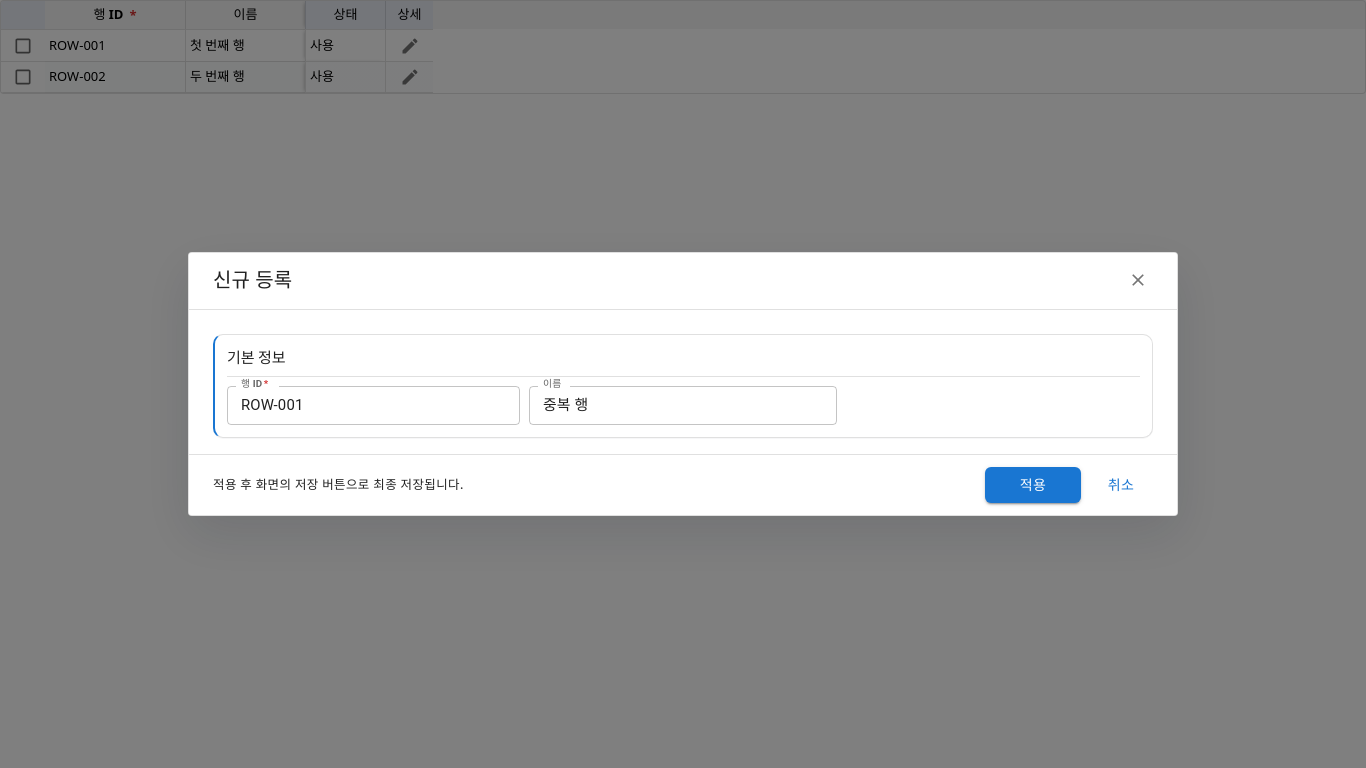
F1-Grid row form integration › keeps a duplicate create draft open with a row key error and allows correction
Click the button "적용" at (1033, 485), box [985,467,1081,503]
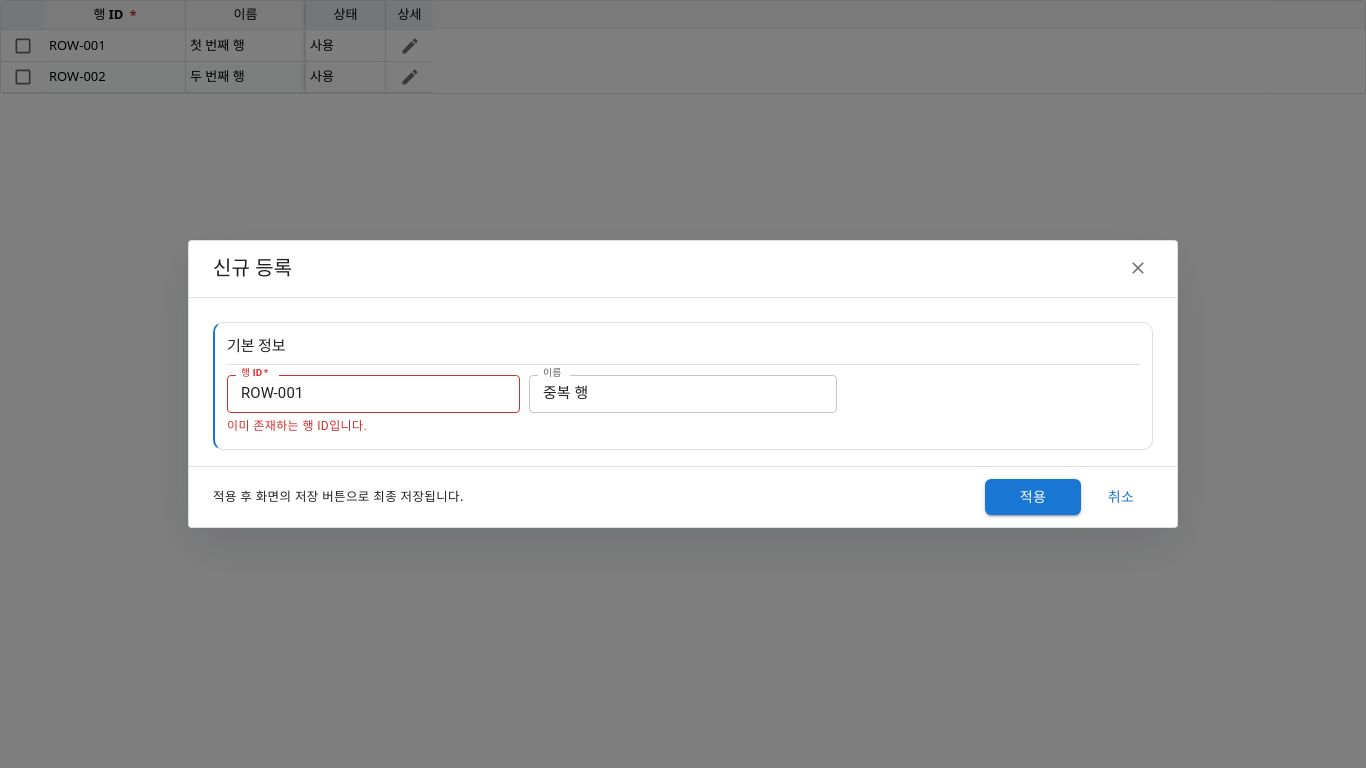
Check: the dialog is shown, box [188,240,1178,528]
Check: the text "이미 존재하는 행 ID입니다." is shown, box [227,419,367,433]
Replace the text in the field labelled "행 ID*" with "ROW-002" at (373, 394), box [227,374,520,413]
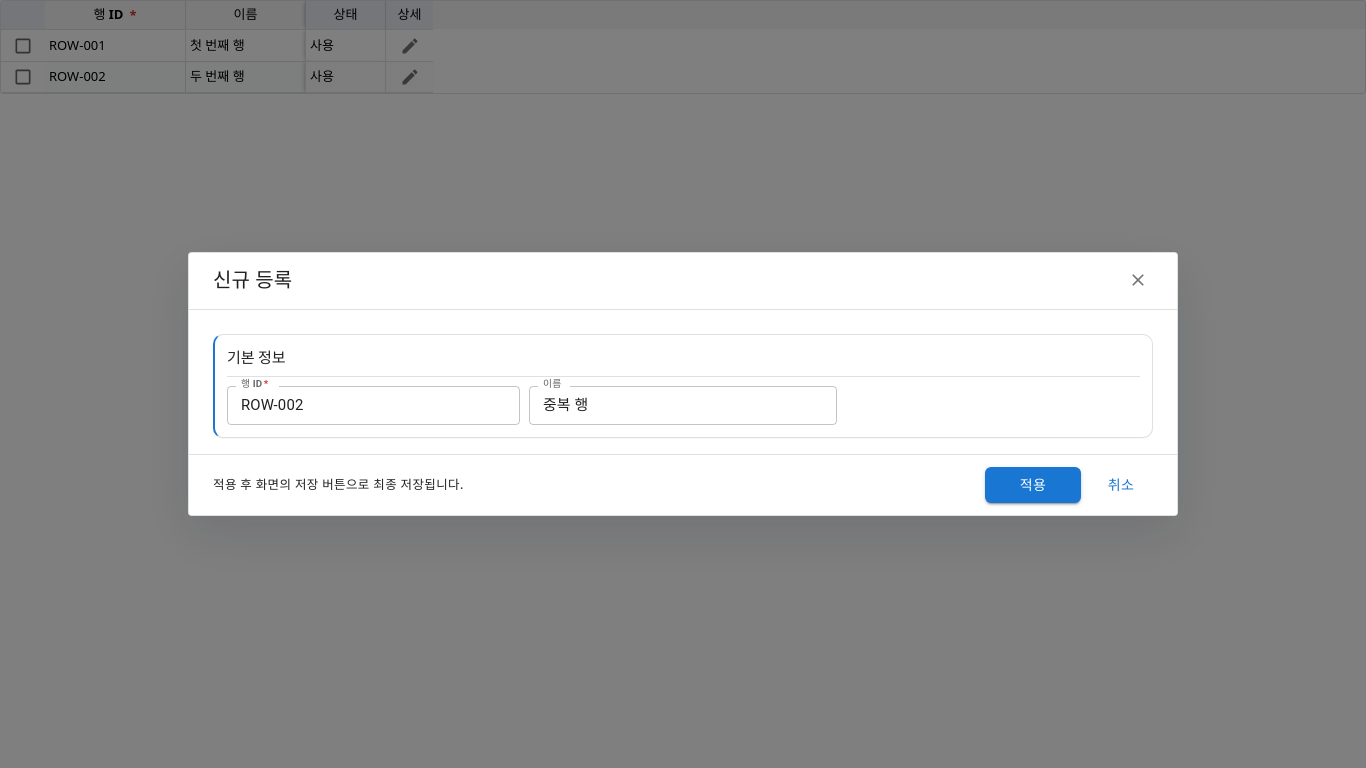
Click the button "적용" at (1033, 485), box [985,467,1081,503]
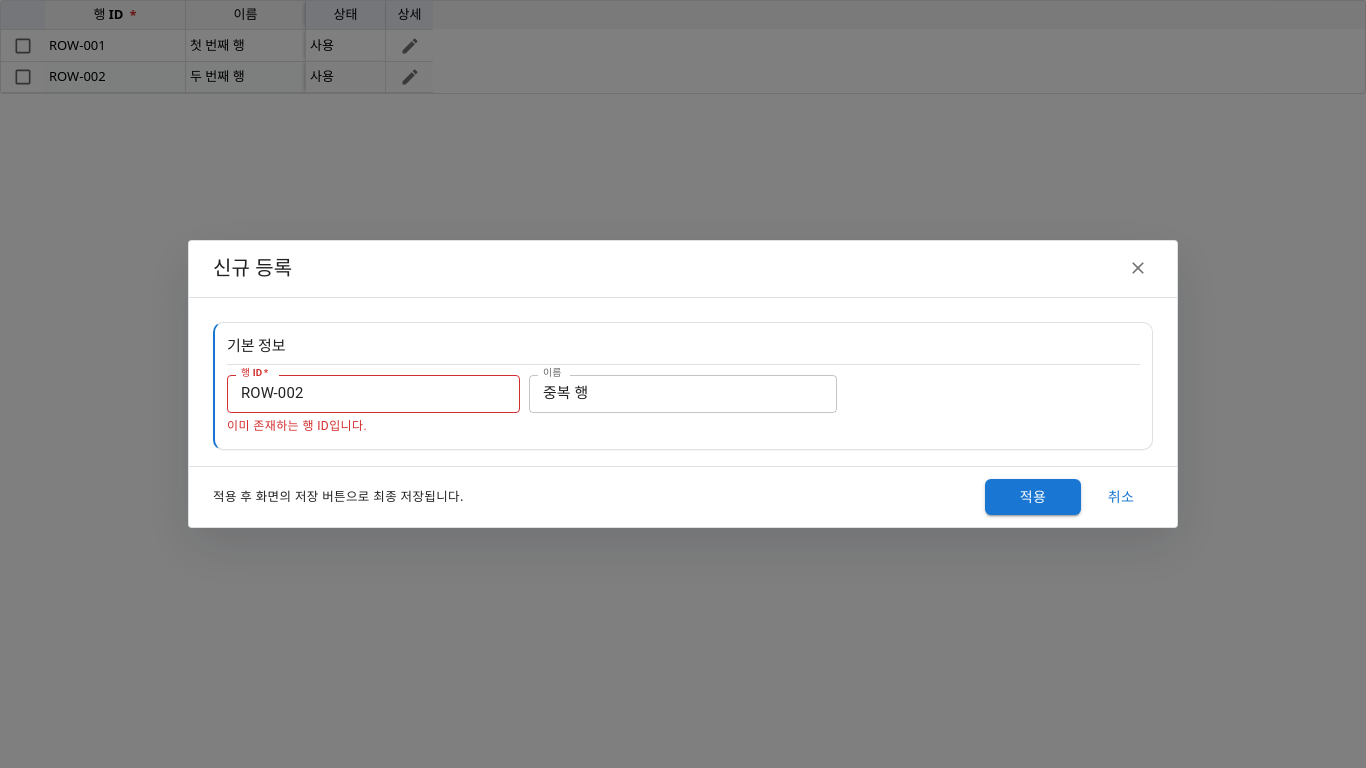
Check: the text "이미 존재하는 행 ID입니다." is shown, box [227,419,367,433]
Replace the text in the field labelled "행 ID*" with "ROW-003" at (373, 394), box [227,374,520,413]
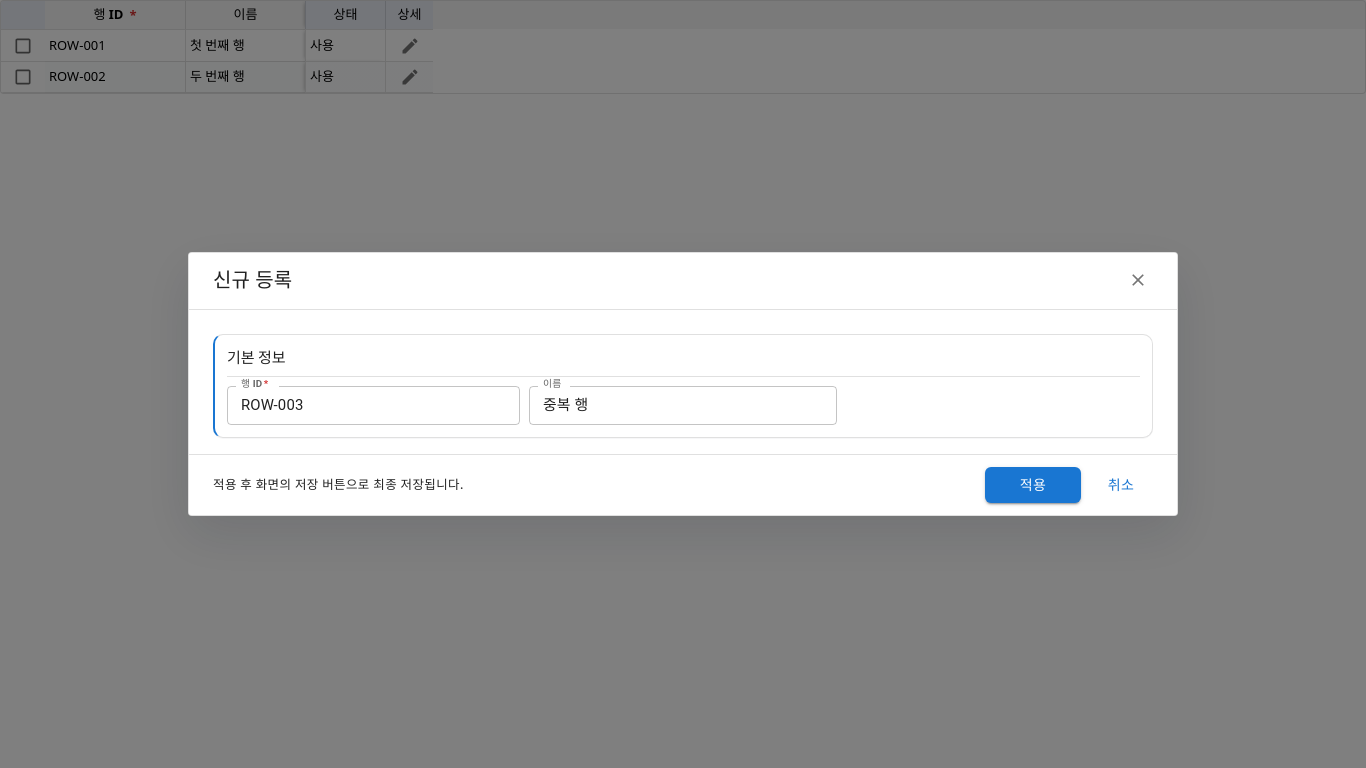
Click the button "적용" at (1033, 485), box [985,467,1081,503]
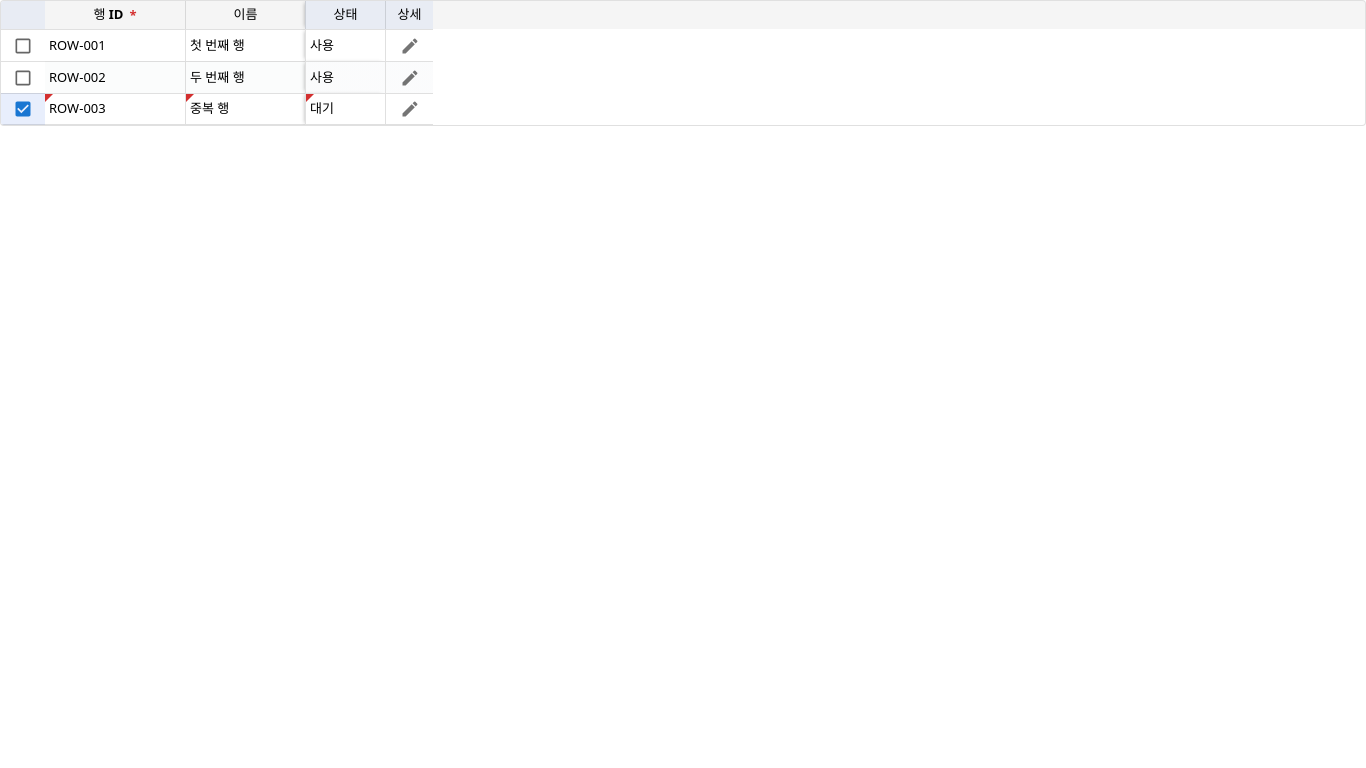
Check: the dialog is gone
